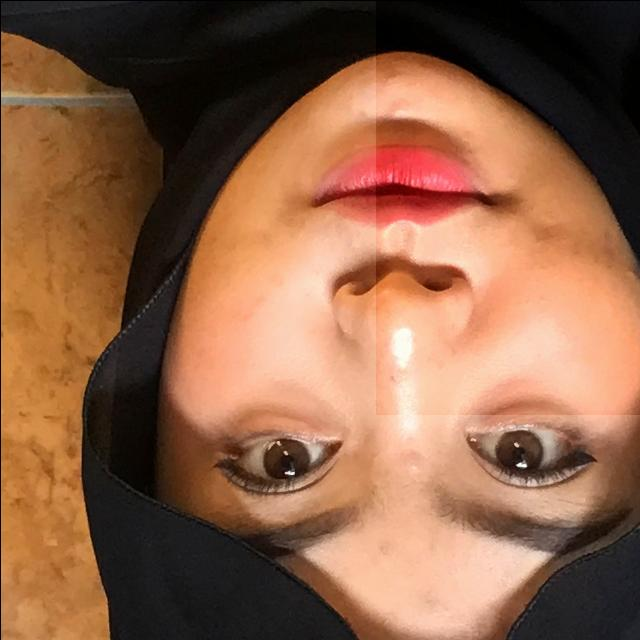ibu: (375, 0, 640, 414)
